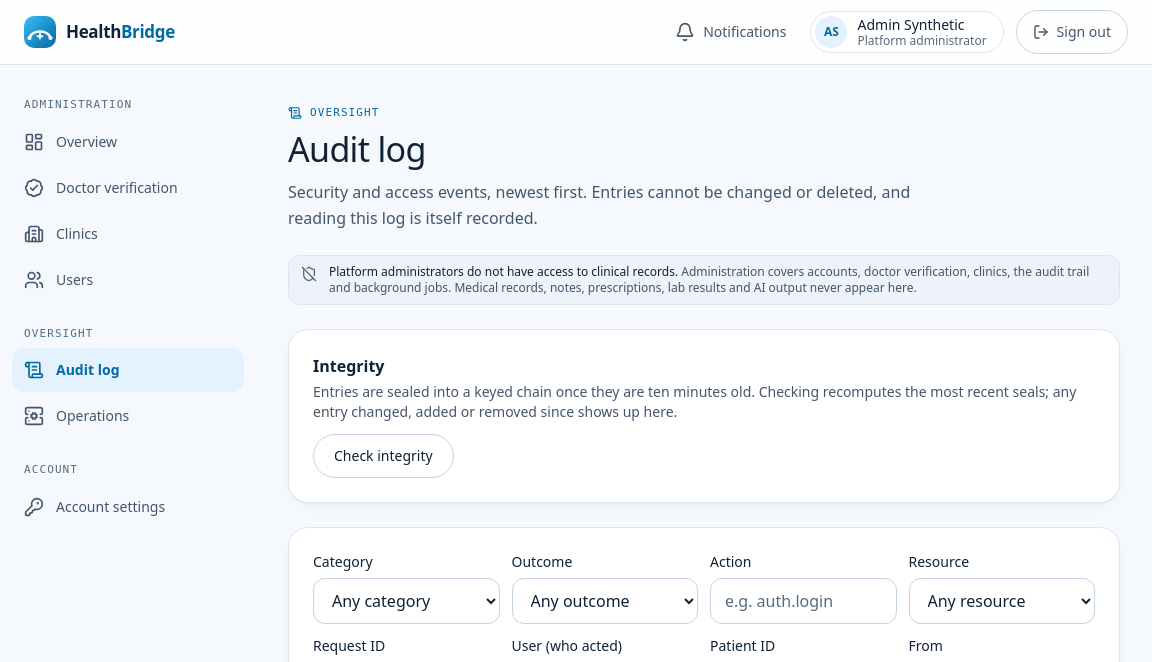
audit log integrity (step 9) › checks on request and explains a verified chain and a broken one
Click the button "Check integrity": click(383, 456) [313,434,454,478]
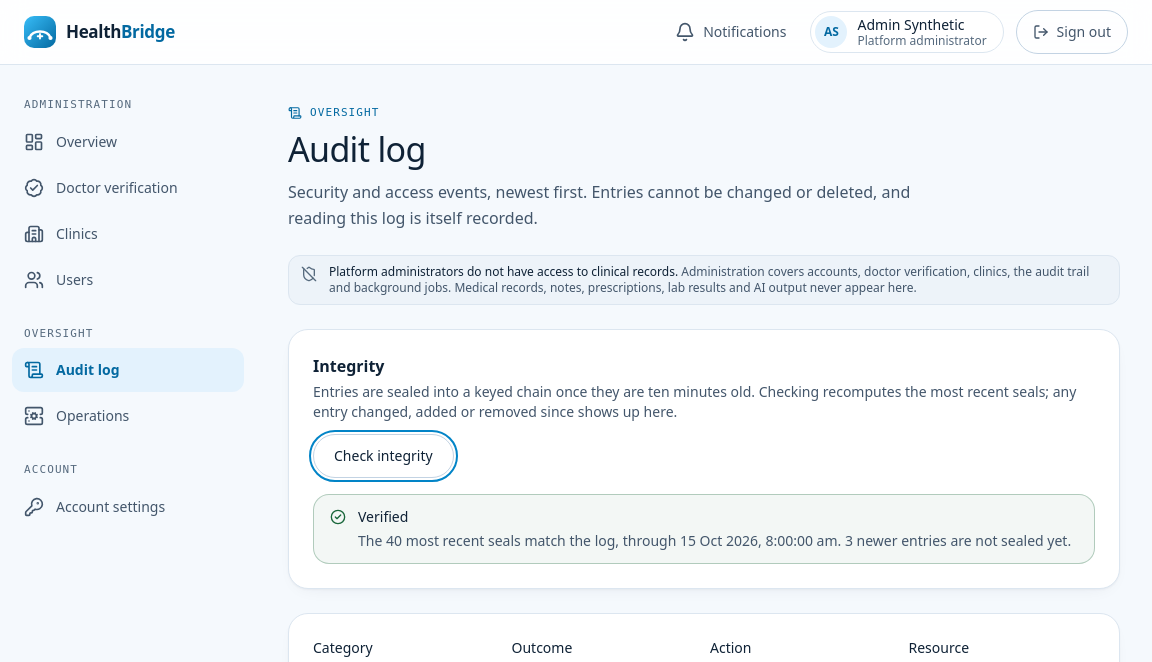
Expected: the text "The 40 most recent seals match the log" is shown, [358,531,1078,551]
Expected: the text "3 newer entries are not sealed yet" is shown, [845,531,1071,550]
Click the button "Check integrity": click(383, 456) [313,434,454,478]
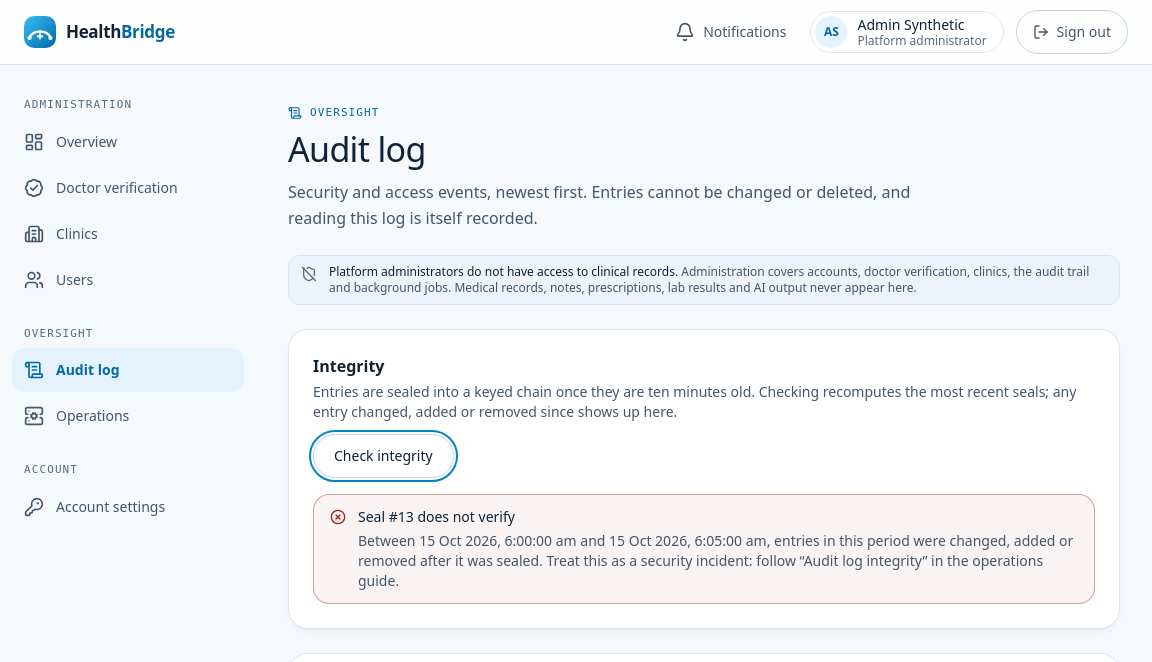
Expected: the text "Seal #13 does not verify" is shown, [358,507,515,526]
Expected: the text "changed, added or removed after it was sealed" is shown, [358,531,1073,570]
